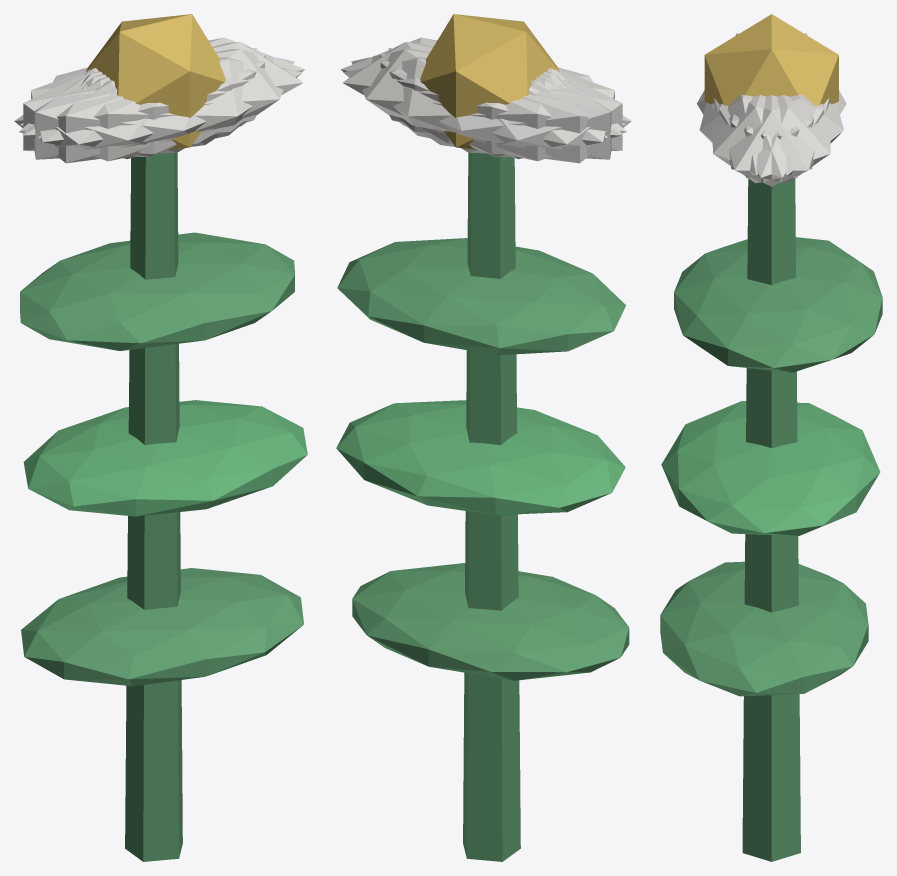
The model's file is tamarindus-indica.glb.
3 views of the same model, side by side, from view 1: azimuth 30°, elevation 25°; view 2: azimuth 150°, elevation 25°; view 3: azimuth 270°, elevation 25° (orthographic).
Visible parts, largest first — view 1: stem, leaf0, leaf1, leaf2, center, petal1, petal6, petal2, petal5, petal7, petal0, petal4 (+2 smaller); view 2: stem, leaf2, leaf1, leaf0, center, petal8, petal3, petal7, petal4, petal2, petal0, petal5 (+2 smaller); view 3: stem, leaf1, leaf2, leaf0, center, petal0, petal5, petal4, petal1, petal8.
Part boxes in pixels (box(x1,y1,x2,y2)): stem: box(125, 152, 182, 861); leaf0: box(21, 568, 303, 686); leaf1: box(23, 400, 307, 516); leaf2: box(20, 232, 294, 350); center: box(86, 14, 225, 149); petal1: box(19, 57, 302, 161); petal6: box(14, 69, 219, 163); petal2: box(34, 48, 257, 159); petal5: box(38, 49, 294, 154); petal7: box(23, 54, 265, 157); petal0: box(85, 42, 302, 144); petal4: box(20, 37, 304, 135); stem: box(463, 152, 520, 861); leaf2: box(337, 238, 625, 355); leaf1: box(336, 400, 625, 515); leaf0: box(352, 563, 629, 680); center: box(420, 14, 559, 149); petal8: box(343, 57, 626, 161); petal3: box(426, 69, 631, 163); petal7: box(388, 48, 611, 159); petal4: box(351, 49, 607, 154); petal2: box(380, 54, 622, 157); petal0: box(342, 42, 559, 143); petal5: box(341, 37, 625, 135); stem: box(742, 178, 800, 861); leaf1: box(661, 401, 880, 535); leaf2: box(674, 237, 882, 372); leaf0: box(660, 561, 868, 696); center: box(704, 14, 838, 105); petal0: box(714, 95, 829, 186); petal5: box(712, 95, 824, 183); petal4: box(719, 95, 830, 183); petal1: box(699, 94, 814, 175); petal8: box(729, 94, 843, 175).
Size of the model in its own units: 0.1452 by 0.4109 by 0.1013.
